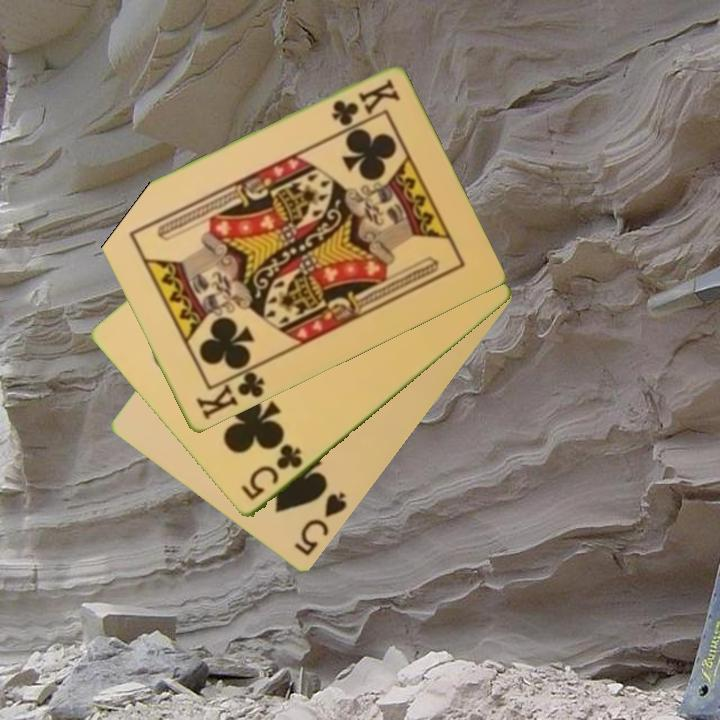5c: (237, 441, 306, 504)
5s: (290, 489, 350, 560)
Kc: (192, 362, 268, 424), (327, 75, 402, 130)
